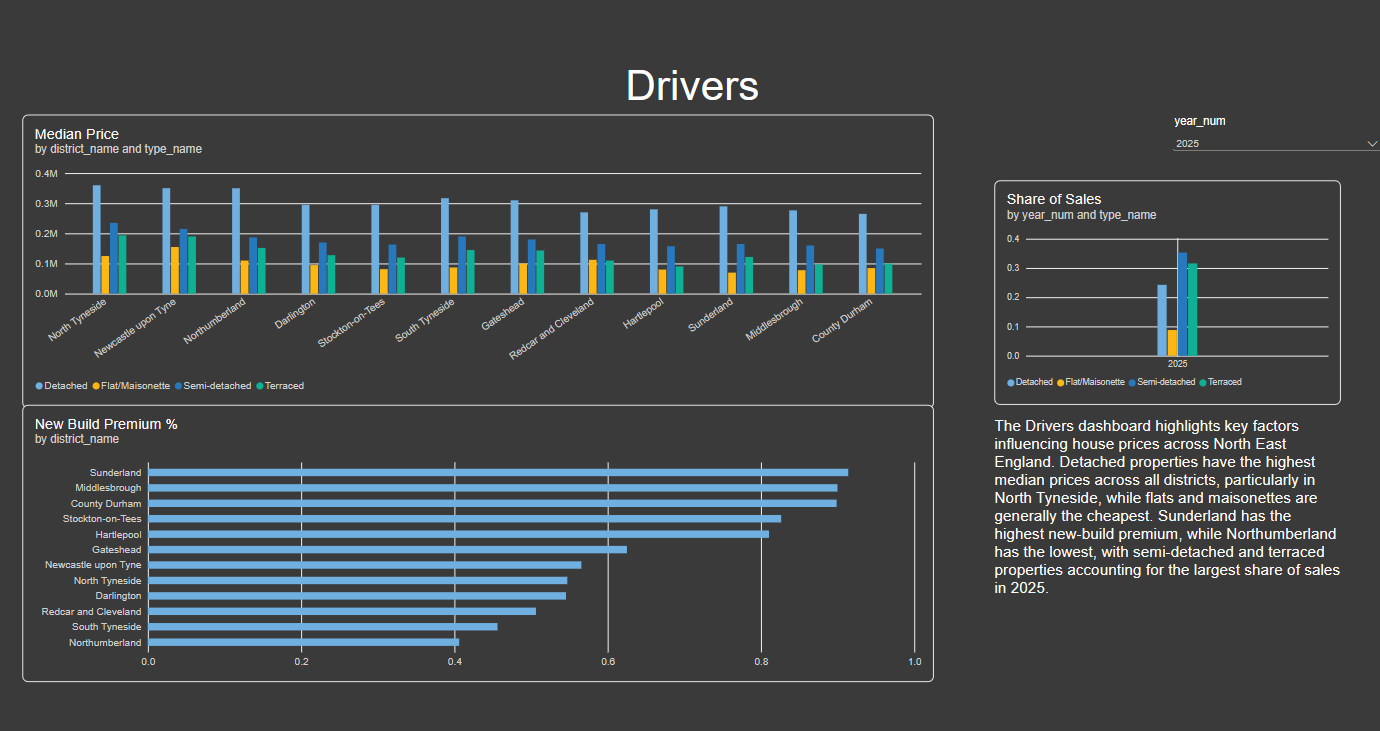

The dashboard page shown, as its layout file describes it:
{"tool":"powerbi","page":{"name":"Drivers","canvas":[1920,1080],"ordinal":2},"visuals":[{"type":"slicer","fields":{"Values":["dw dim_date.year_num"]},"box":[1620,214.1,300.6,179.6],"z":0},{"type":"textbox","box":[0,139.7,1920.6,74.5],"z":1},{"type":"clusteredColumnChart","fields":{"Category":["dw dim_location.district_name"],"Series":["dw dim_property_type.type_name"],"Y":["_Measures.Median Price"]},"box":[31.9,214.1,1263.5,407],"z":2},{"type":"clusteredBarChart","fields":{"Category":["dw dim_location.district_name"],"Y":["_Measures.New Build Premium %"]},"box":[31.9,615.8,1263.5,384.4],"z":3},{"type":"clusteredColumnChart","fields":{"Category":["dw dim_date.year_num"],"Series":["dw dim_property_type.type_name"],"Y":["_Measures.Share of Sales"]},"box":[1379.3,304.6,480.1,311.2],"z":4},{"type":"textbox","box":[1379.3,633.1,480.1,367.1],"z":5}]}

Visuals, with their boxes on the page's 1920x1080 design canvas (x1, y1, x2, y2). These are canvas units, not pixel positions in the 1380x731 screenshot, which may show the page scaled, cropped or inside an application window:
slicer - dw dim_date.year_num: region(1620, 214, 1921, 394)
textbox: region(0, 140, 1921, 214)
clusteredColumnChart - dw dim_location.district_name x dw dim_property_type.type_name: region(32, 214, 1295, 621)
clusteredBarChart - dw dim_location.district_name x _Measures.New Build Premium %: region(32, 616, 1295, 1000)
clusteredColumnChart - dw dim_date.year_num x dw dim_property_type.type_name: region(1379, 305, 1859, 616)
textbox: region(1379, 633, 1859, 1000)
